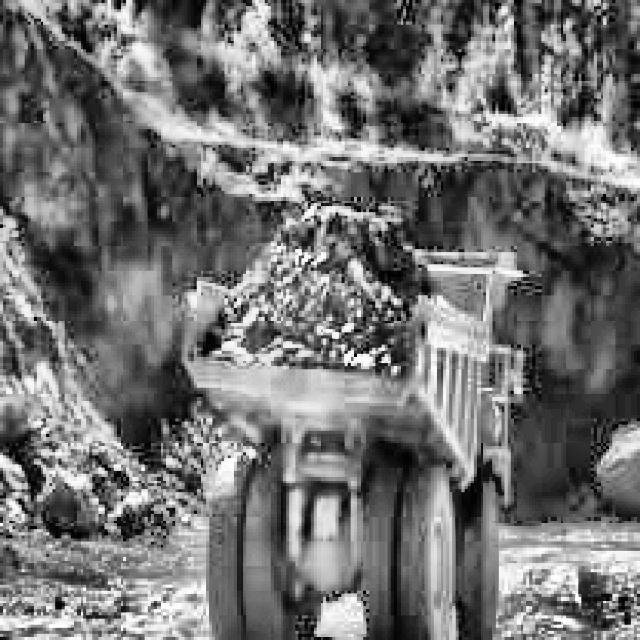dump_truck: (182, 206, 526, 640)
